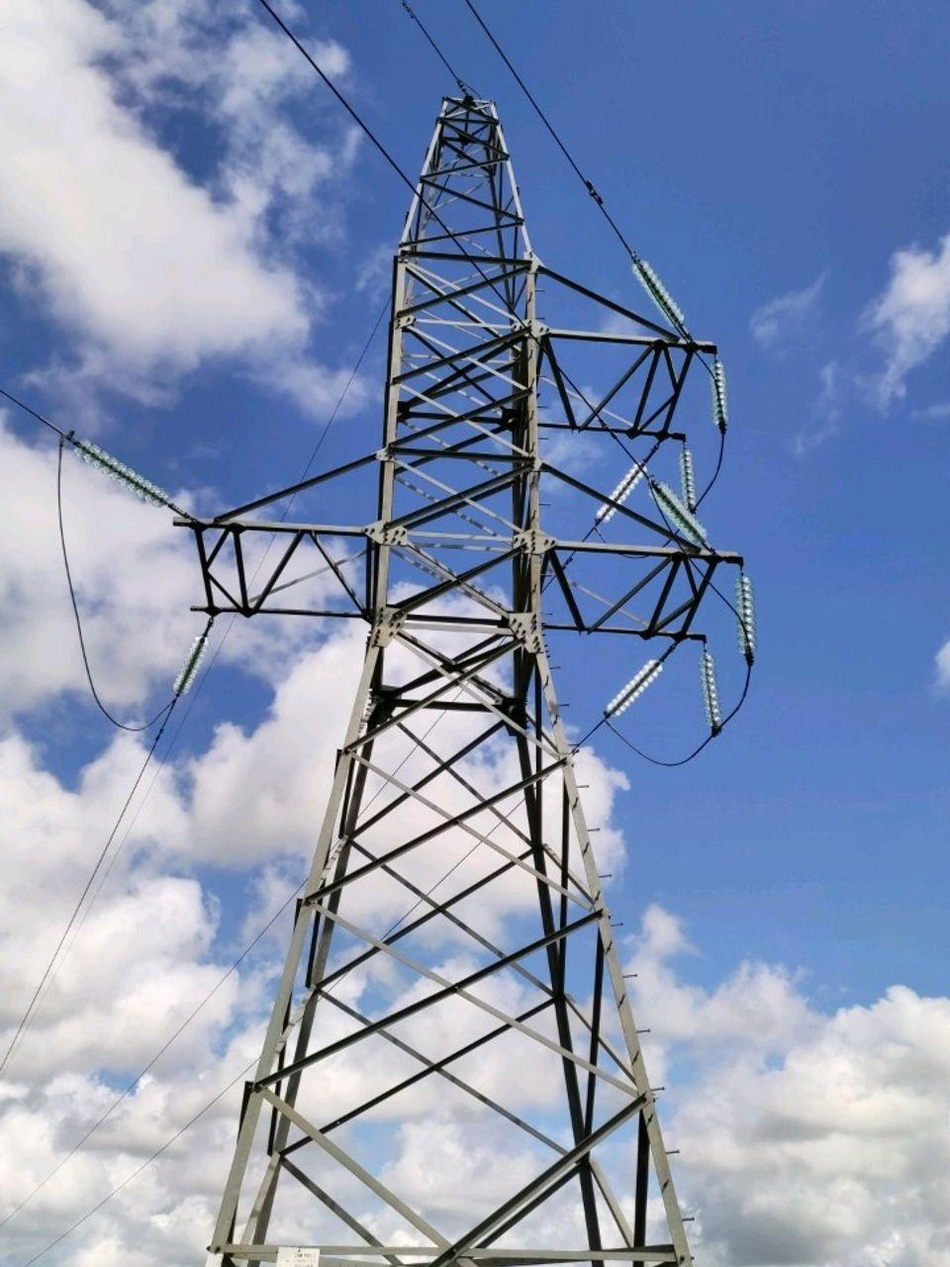tower: (173, 67, 757, 1267)
